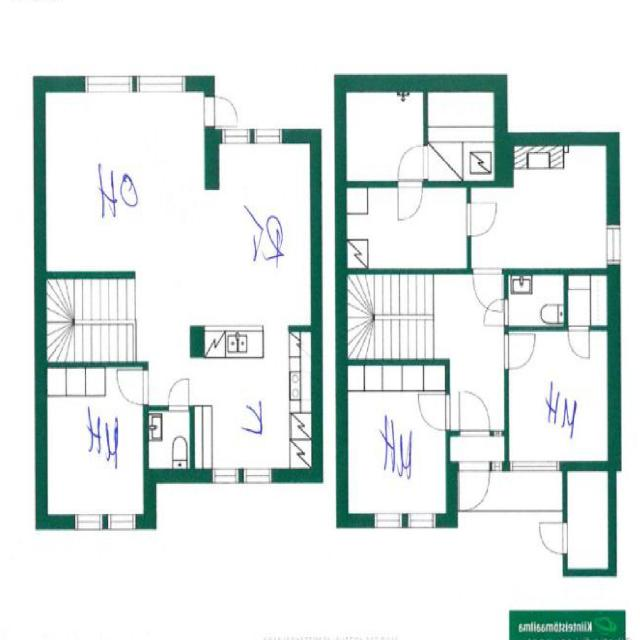door: (459, 462, 490, 511), (459, 389, 490, 437), (473, 268, 502, 314), (466, 202, 498, 237), (204, 95, 238, 127), (537, 522, 568, 555), (504, 335, 534, 369), (420, 395, 450, 429), (398, 146, 428, 179), (397, 181, 422, 220), (118, 371, 147, 404), (569, 326, 590, 358), (168, 380, 188, 412), (484, 300, 509, 324)
